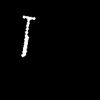half_double_crochet: (22, 16, 34, 56)
